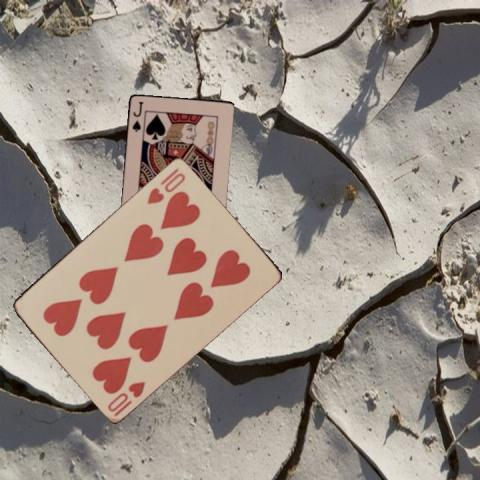10h: (144, 164, 188, 205), (104, 378, 147, 417)
Js: (129, 98, 145, 132)
